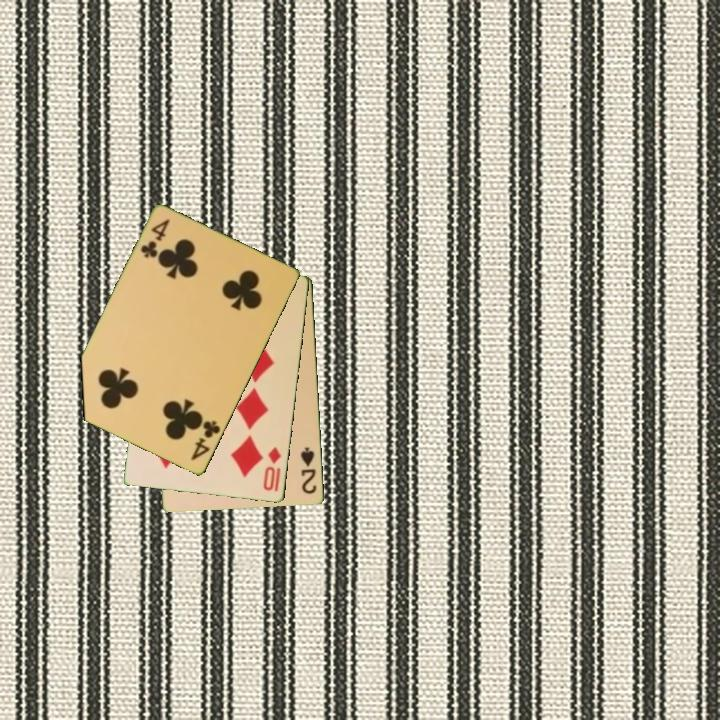10d: (260, 443, 284, 494)
2s: (298, 444, 320, 497)
4c: (187, 417, 224, 464), (137, 215, 173, 261)
